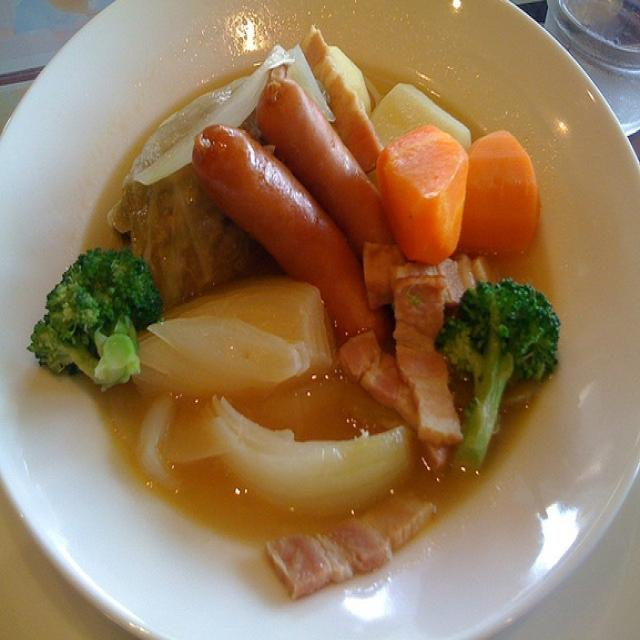汤锅炖物: (21, 28, 619, 621)
